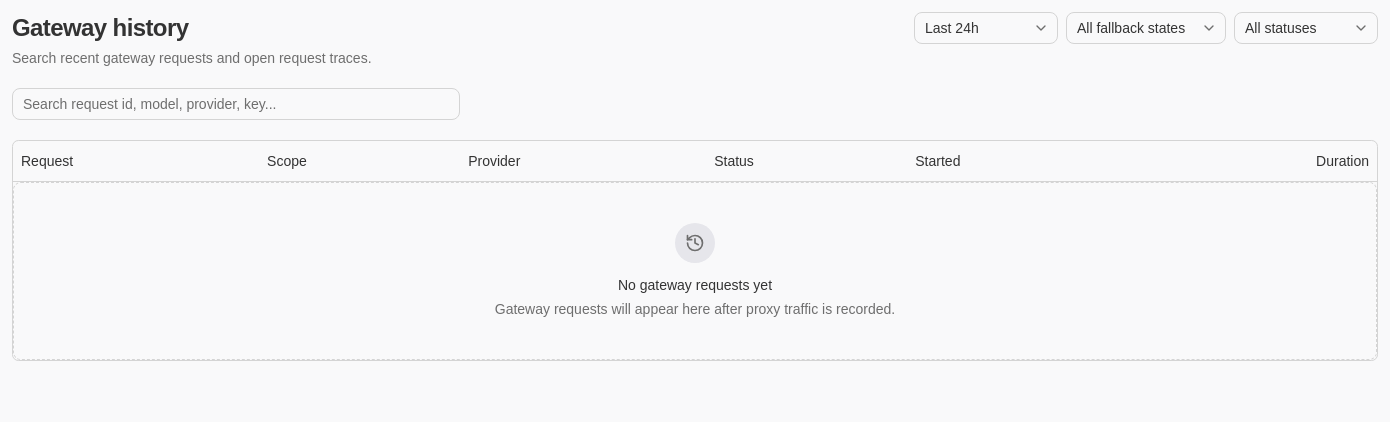
Test case: GatewayHistoryPage › offers clear filters for a filtered empty result
The image size is (1390, 422).
Expected: the text "No gateway requests yet" is shown, [618,276,772,292]
Type "missing" into the field named "Search gateway requests".
click(236, 104); type("missing")  # box [12,88,460,120]
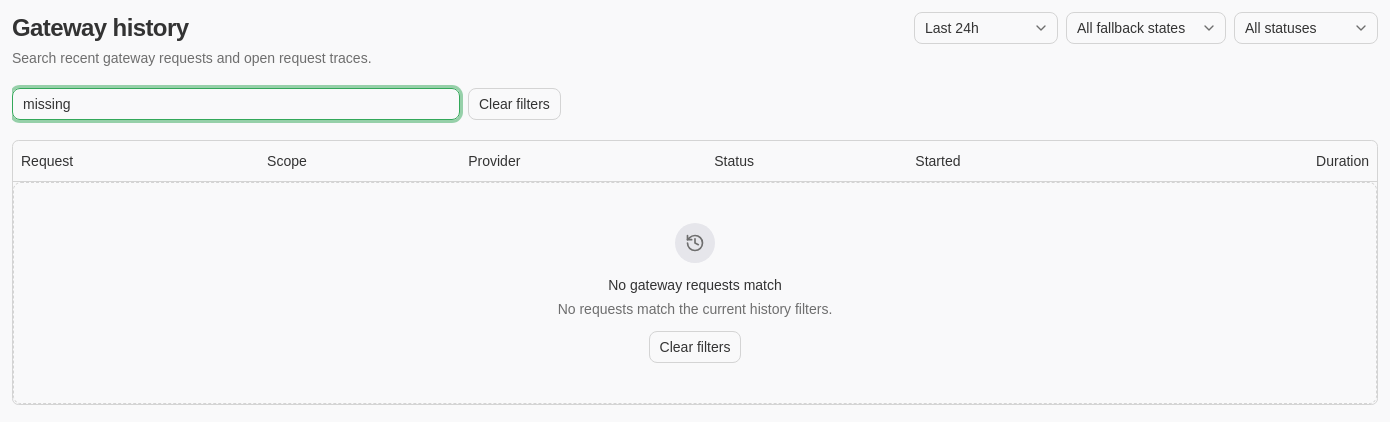
Result: the text "No gateway requests match" is shown at [608,276,782,292]
Click the 1st button "Clear filters".
click(514, 104)  # box [468,88,561,120]
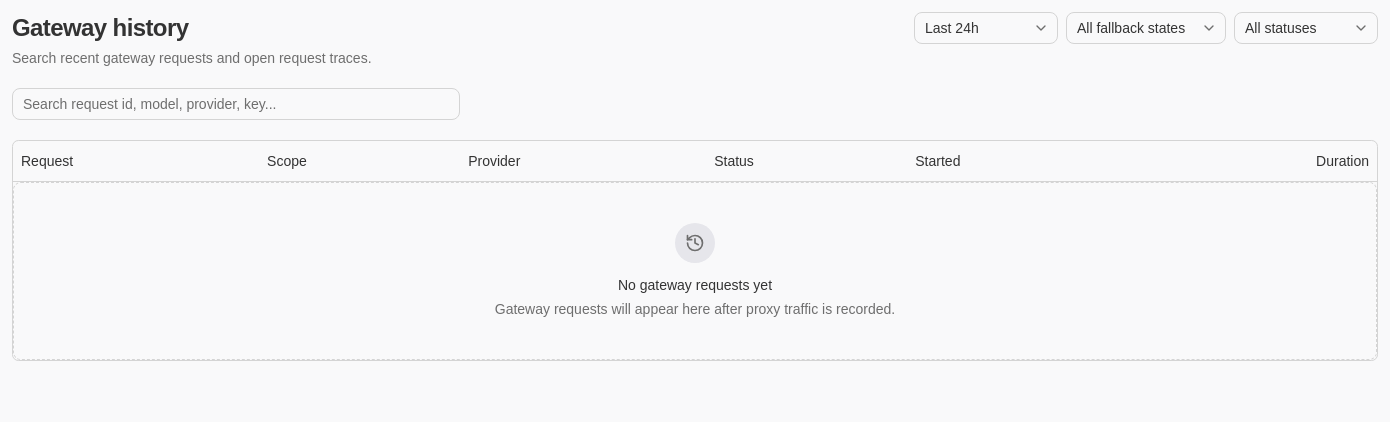
Result: the field named "Search gateway requests" is empty at [12,88,460,120]
